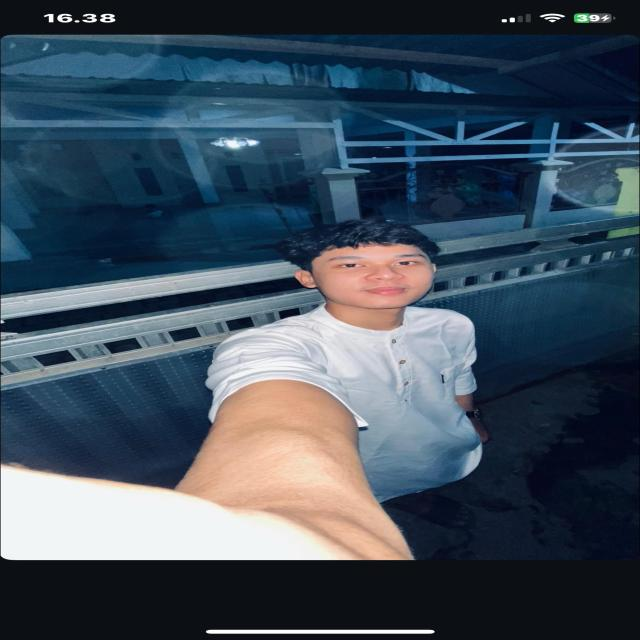nohelmet: (286, 212, 444, 315)
